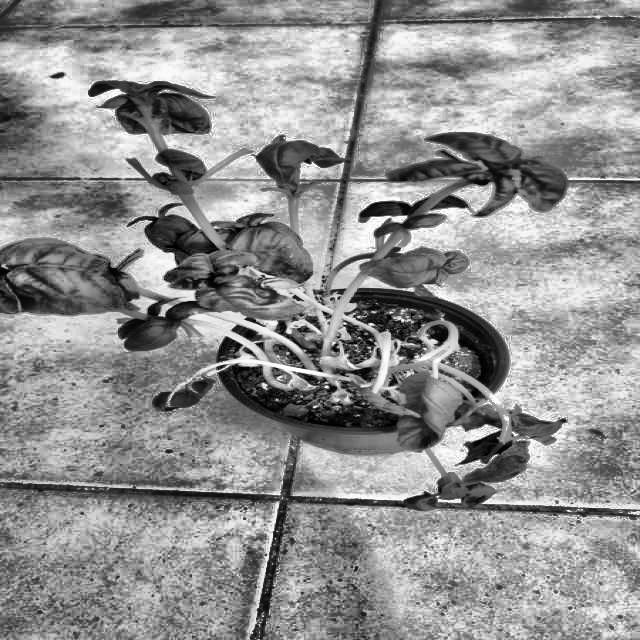plants: (7, 70, 578, 519)
